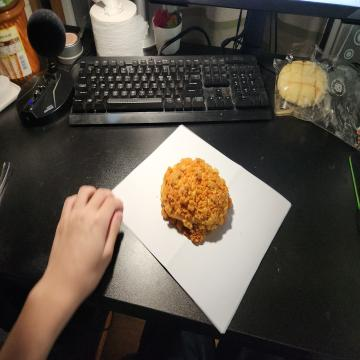soboru_bread: (160, 157, 232, 248)
